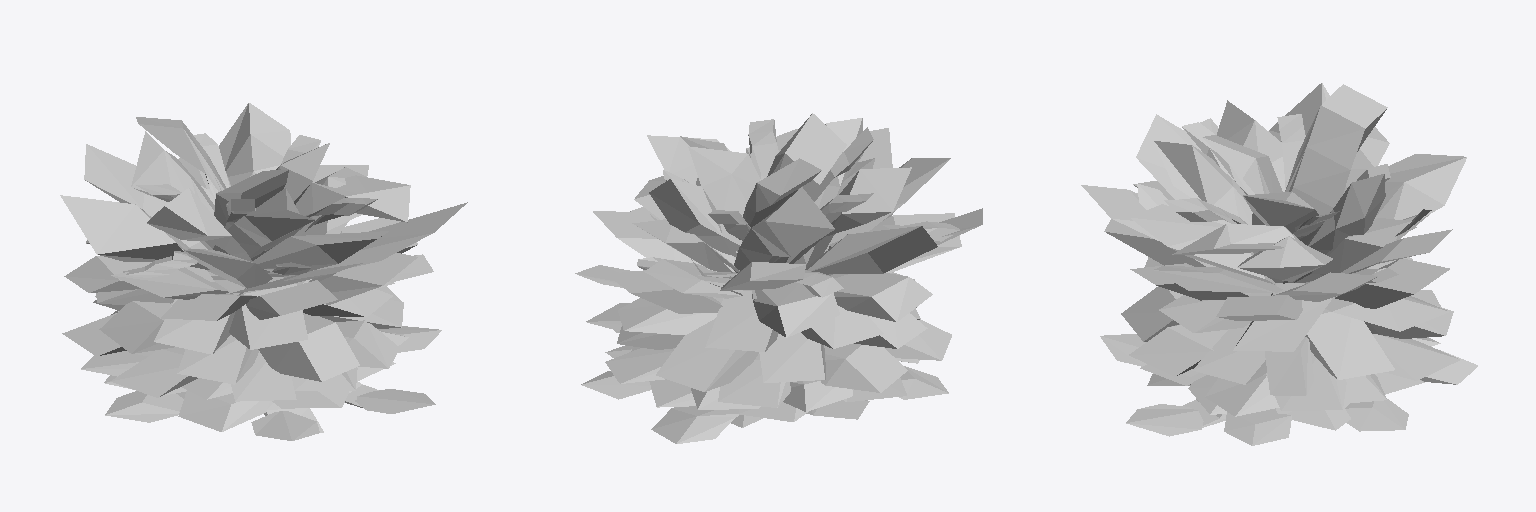
Rendered from arbusto.obj.
The picture shows the model from 3 angles: view 1: azimuth 30°, elevation 25°; view 2: azimuth 150°, elevation 25°; view 3: azimuth 270°, elevation 25°; orthographic projection.
Size of the model in its own units: 0.9498 by 0.6539 by 0.9088.